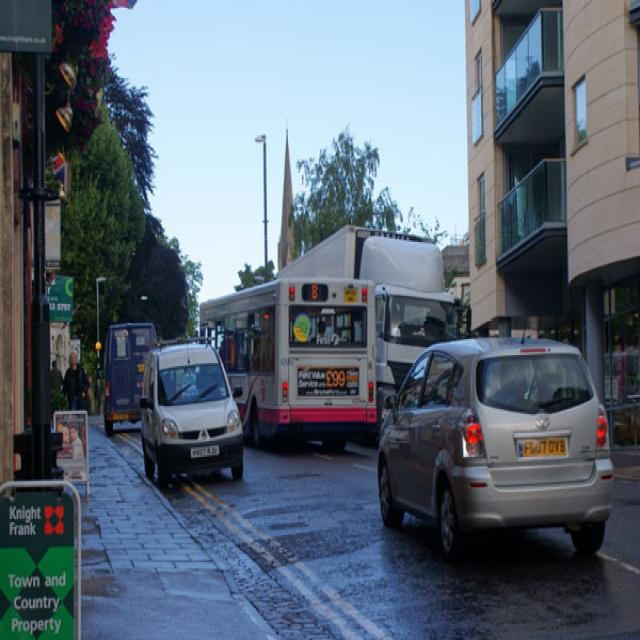Vehicle: (374, 341, 617, 575), (275, 222, 458, 432), (195, 282, 376, 452), (136, 336, 245, 490), (141, 336, 246, 484), (102, 321, 159, 435)
